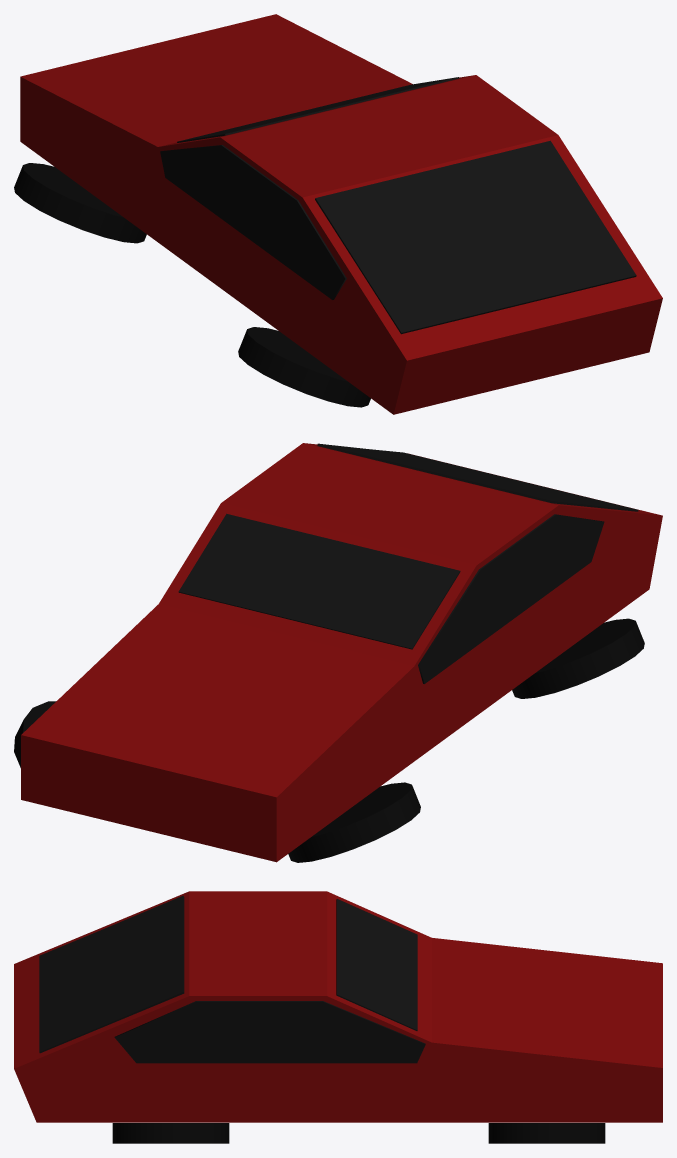
File: Basic Race Car.fbx
The picture shows the model from 3 angles, top to bottom: view 1: azimuth 30°, elevation 25°; view 2: azimuth 150°, elevation 25°; view 3: azimuth 270°, elevation 25°; orthographic projection. The views are drawn at different scales.
Visible parts, largest first — view 1: Box001, Box004, Box002, Cylinder002, Cylinder001, Box005; view 2: Box001, Box005, Box002, Cylinder002, Cylinder001, Box004, Cylinder004; view 3: Box001, Box003, Box004, Box005, Cylinder003, Cylinder004.
Part boxes in pixels (x1,y1,x2,y2): Box001: [20, 14, 662, 414]; Box004: [315, 140, 636, 334]; Box002: [160, 145, 346, 299]; Cylinder002: [14, 163, 146, 243]; Cylinder001: [238, 327, 370, 407]; Box005: [177, 77, 459, 142]; Box001: [21, 443, 662, 862]; Box005: [178, 513, 460, 649]; Box002: [418, 514, 604, 683]; Cylinder002: [288, 782, 420, 862]; Cylinder001: [512, 618, 644, 698]; Box004: [317, 443, 638, 511]; Cylinder004: [14, 701, 56, 767]; Box001: [14, 891, 662, 1122]; Box003: [114, 1001, 425, 1063]; Box004: [39, 895, 184, 1053]; Box005: [336, 899, 417, 1030]; Cylinder003: [112, 1123, 229, 1143]; Cylinder004: [488, 1123, 605, 1143].
Size of the model in its own units: 47.59 by 23.13 by 82.14.
